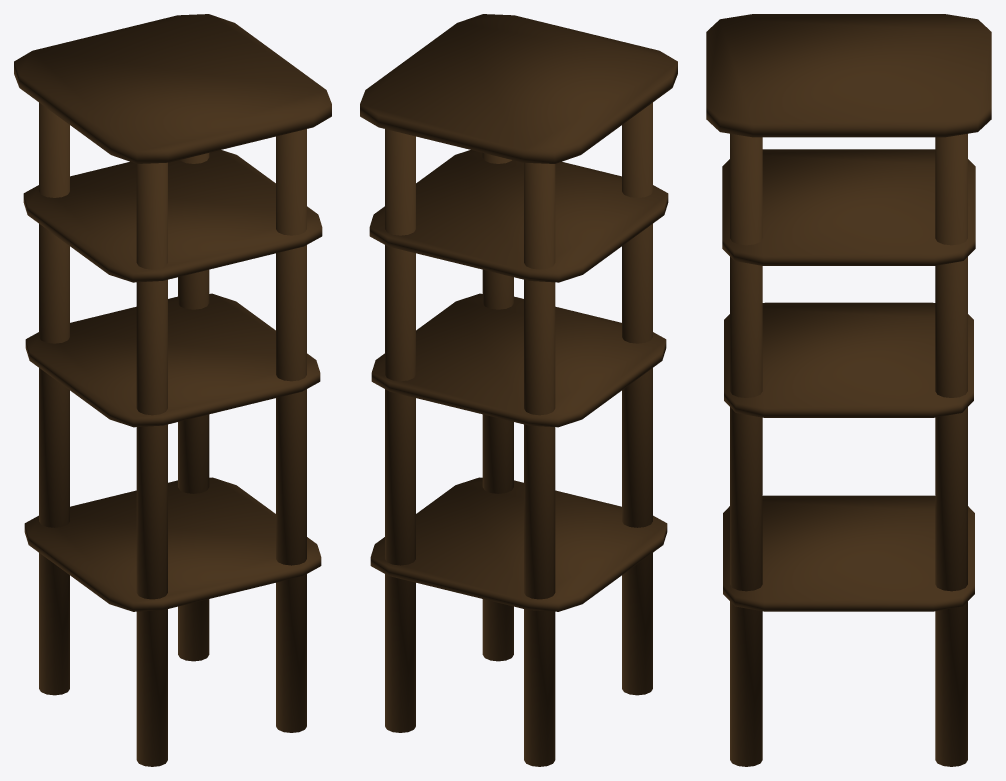
The model's file is Shelf1.glb.
The picture shows the model from 3 angles, left to right: view 1: azimuth 30°, elevation 25°; view 2: azimuth 150°, elevation 25°; view 3: azimuth 270°, elevation 25°; orthographic projection. The views are drawn at different scales.
Visible parts, largest first — view 1: Shelf3; view 2: Shelf3; view 3: Shelf3.
Boxes of the visible parts, box(x1,y1,x2,y2) form: Shelf3: box(14, 14, 331, 766); Shelf3: box(360, 14, 677, 766); Shelf3: box(706, 14, 991, 766).
Size of the model in its own units: 0.4119 by 1.14 by 0.4502.
